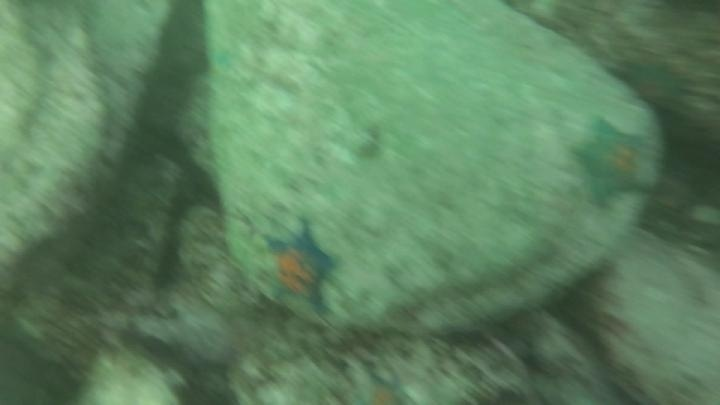starfish: (257, 218, 341, 326), (568, 116, 660, 211), (604, 52, 695, 115), (344, 367, 419, 404)
